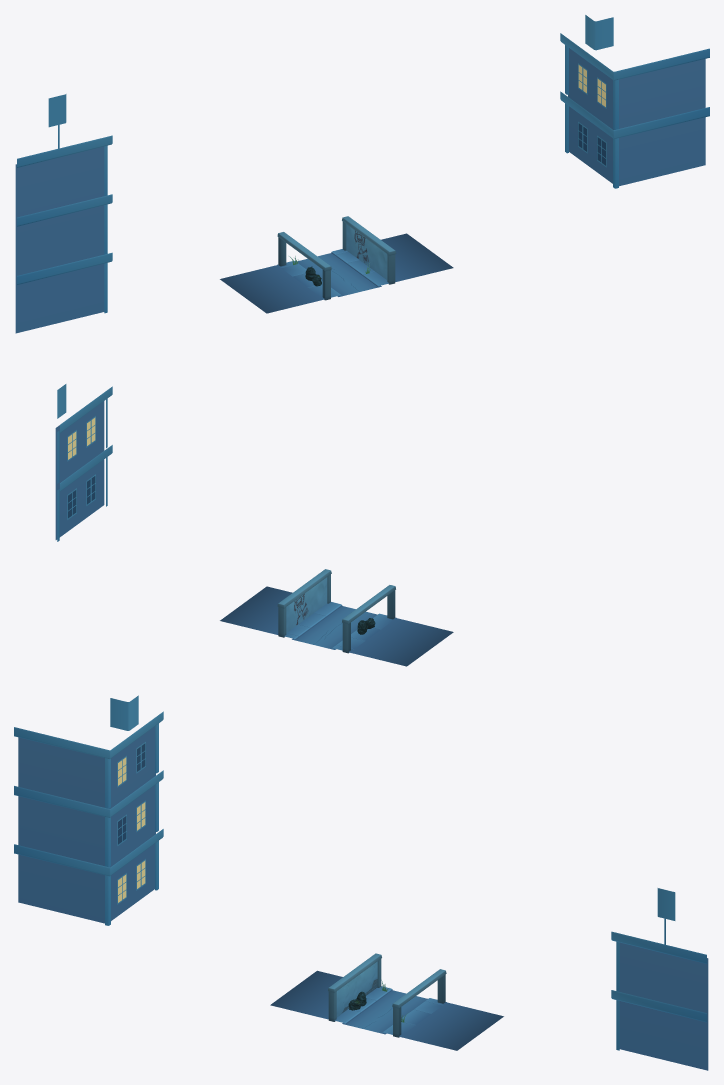
Rendered from UrbanPlasterWalls02.prefab.glb.
3 renders of one model, top to bottom at view 1: azimuth 30°, elevation 25°; view 2: azimuth 150°, elevation 25°; view 3: azimuth 330°, elevation 25°, orthographic.
Visible parts, largest first — view 1: FarBackBuilding01, UrbanPlasterWalls02, PlasteredWall01, PlasteredWall02; view 2: UrbanPlasterWalls02, FarBackBuilding01, PlasteredWall01, PlasteredWall02; view 3: FarBackBuilding01, UrbanPlasterWalls02, PlasteredWall02, PlasteredWall01.
Boxes of the visible parts, bbox=[...] form: FarBackBuilding01: bbox=[15, 15, 709, 333]; UrbanPlasterWalls02: bbox=[220, 233, 453, 313]; PlasteredWall01: bbox=[342, 216, 396, 284]; PlasteredWall02: bbox=[277, 232, 331, 300]; UrbanPlasterWalls02: bbox=[220, 586, 453, 666]; FarBackBuilding01: bbox=[55, 384, 112, 541]; PlasteredWall01: bbox=[277, 569, 331, 637]; PlasteredWall02: bbox=[342, 585, 395, 653]; FarBackBuilding01: bbox=[14, 695, 708, 1070]; UrbanPlasterWalls02: bbox=[270, 970, 503, 1050]; PlasteredWall02: bbox=[327, 953, 381, 1021]; PlasteredWall01: bbox=[392, 969, 446, 1037].
Bounding box in the file's own units: 76.34 × 26.74 × 10.17.
Materials: 5 (4 with a texture image).
